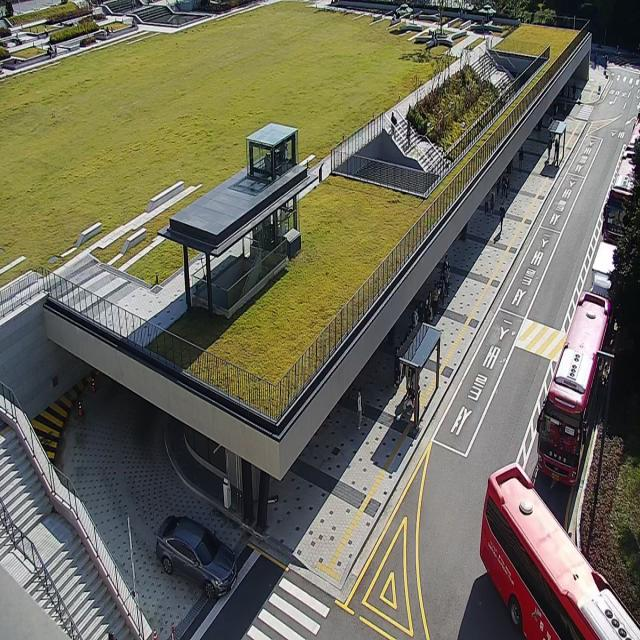queue: (416, 256, 450, 431)
